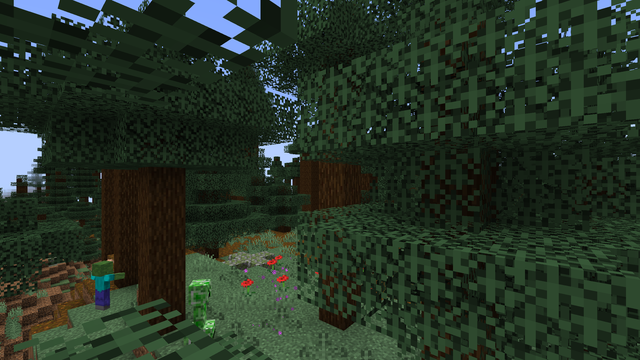creepers: (185, 274, 215, 336)
zombies: (92, 260, 112, 312)
